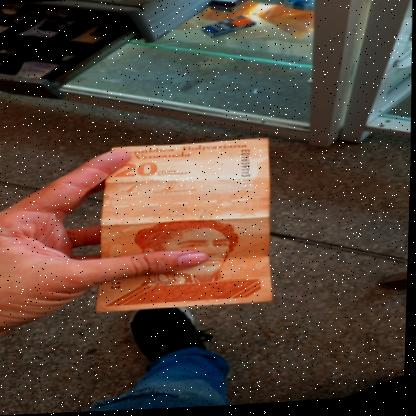twenty-front-vef: (94, 138, 277, 314)
